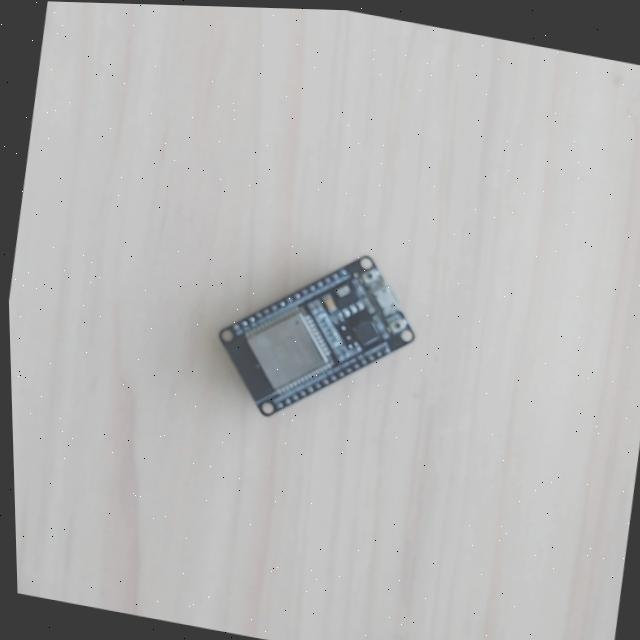ESP32-DevKit: (216, 252, 416, 420)
